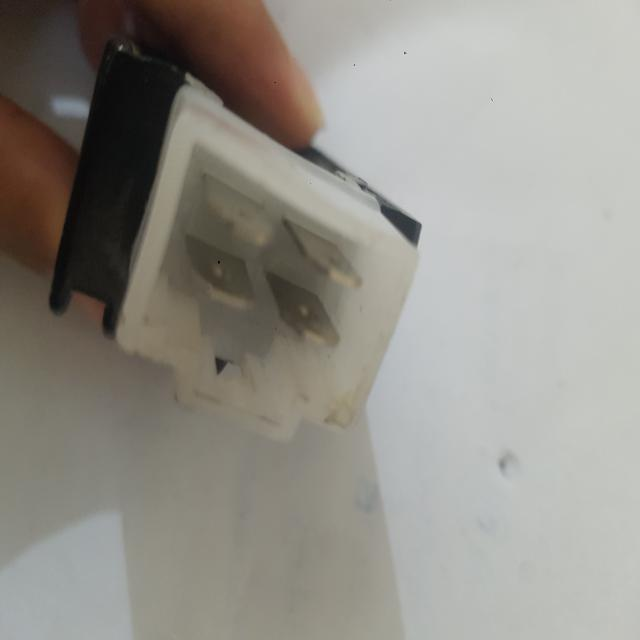electronic: (49, 34, 422, 443)
